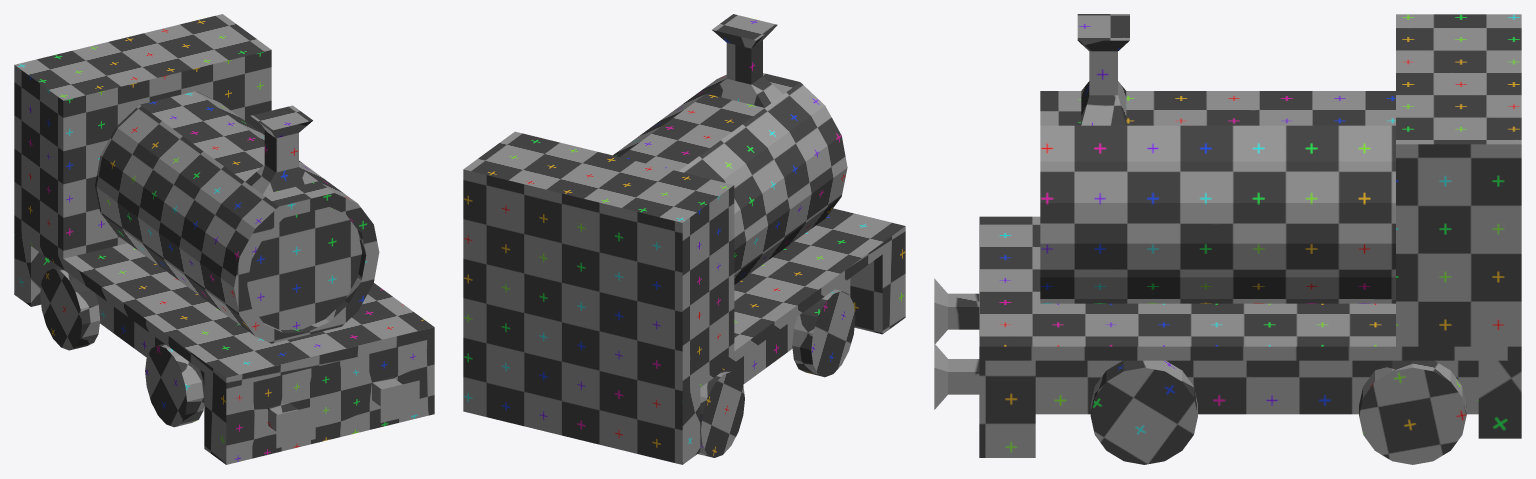
File: Train.glb
The picture shows the model from 3 angles, left to right: view 1: azimuth 30°, elevation 25°; view 2: azimuth 150°, elevation 25°; view 3: azimuth 270°, elevation 25°; orthographic projection. The views are drawn at different scales.
Parts seen in each view (by area): view 1: TrainModel; view 2: TrainModel; view 3: TrainModel.
Part boxes in pixels (left/top/right/bottom): TrainModel: left=14, top=14, right=434, bottom=464; TrainModel: left=463, top=14, right=905, bottom=464; TrainModel: left=934, top=14, right=1521, bottom=464.
Size of the model in its own units: 0.4012 by 0.5399 by 0.7657.
1 material, 1 textured.
